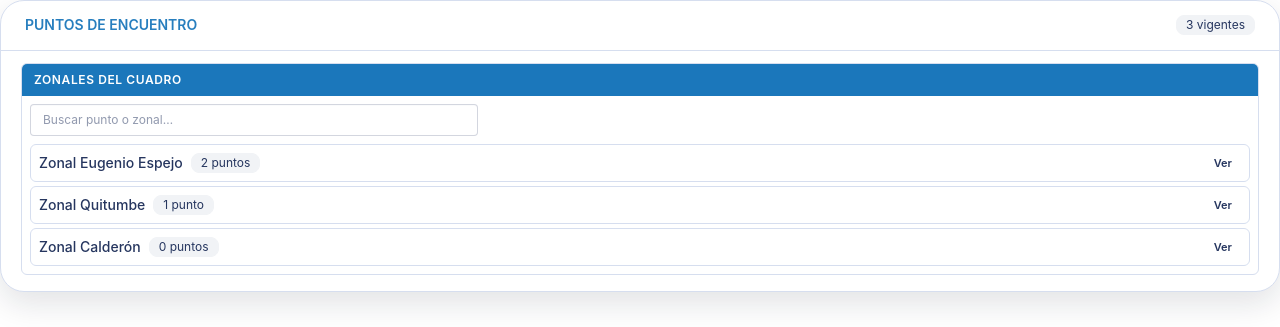
Test case: la búsqueda › sin coincidencias lo dice, con lo que se escribió
Step 1. Type "aeropuerto" into the search field labelled "Buscar punto o zonal" → point(254, 120), box [30,104,478,136]
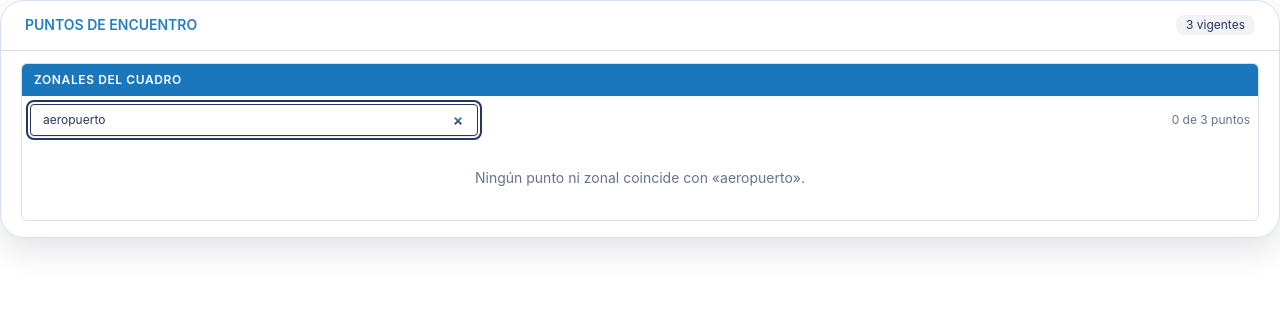
expect the text "Ningún punto ni zonal coincide con «aeropuerto»." is shown: met, box [475,169,805,186]
